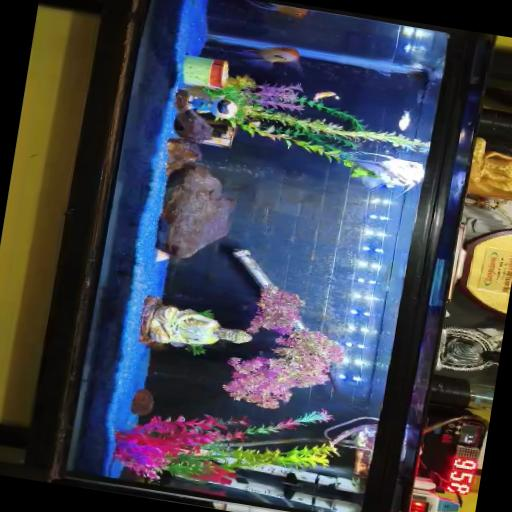Fish: (346, 151, 424, 192), (235, 47, 300, 72), (248, 1, 307, 18), (282, 473, 299, 500), (397, 111, 409, 130), (312, 91, 337, 100)
